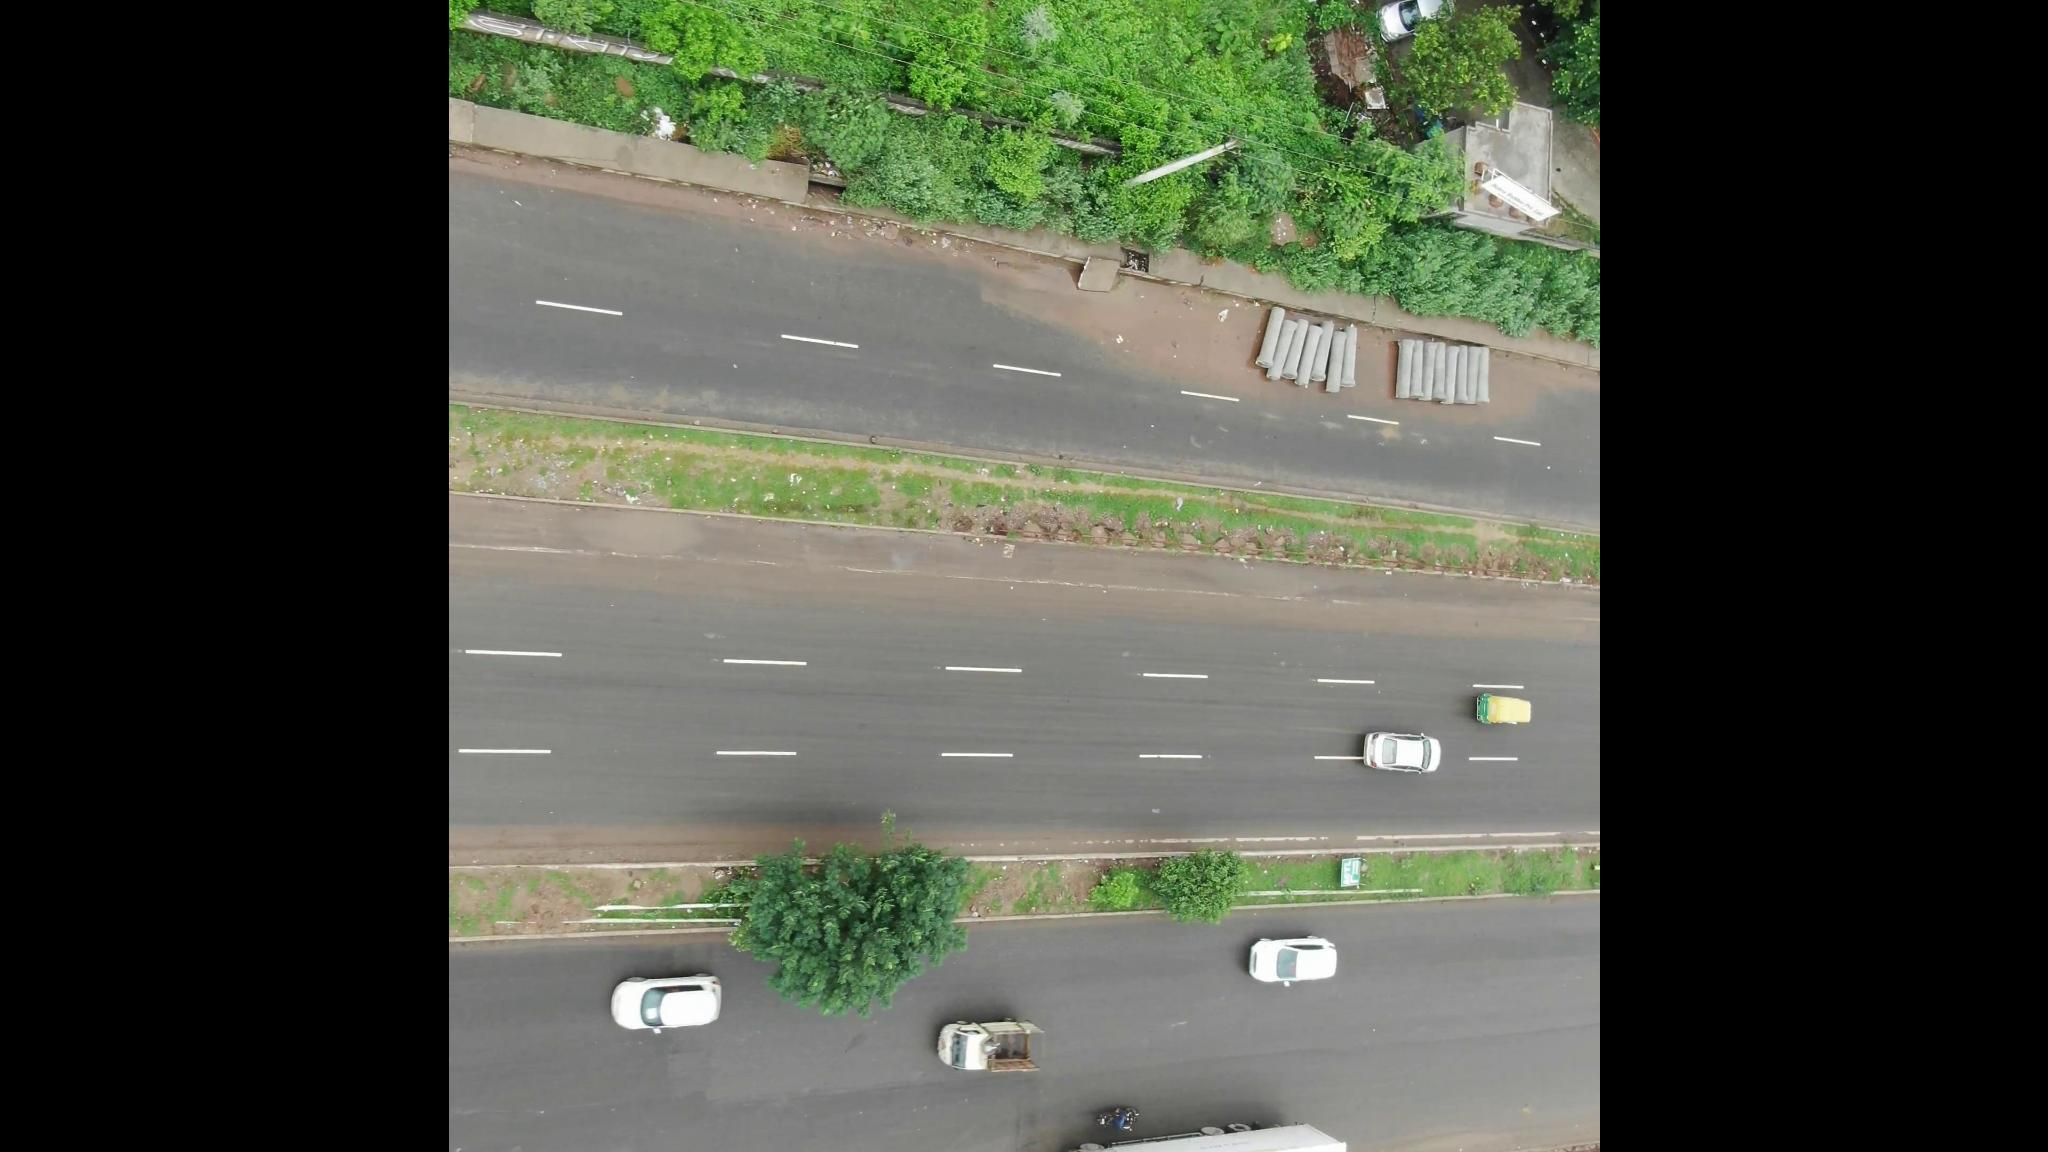Muddy_road: (1101, 274, 1263, 376)
